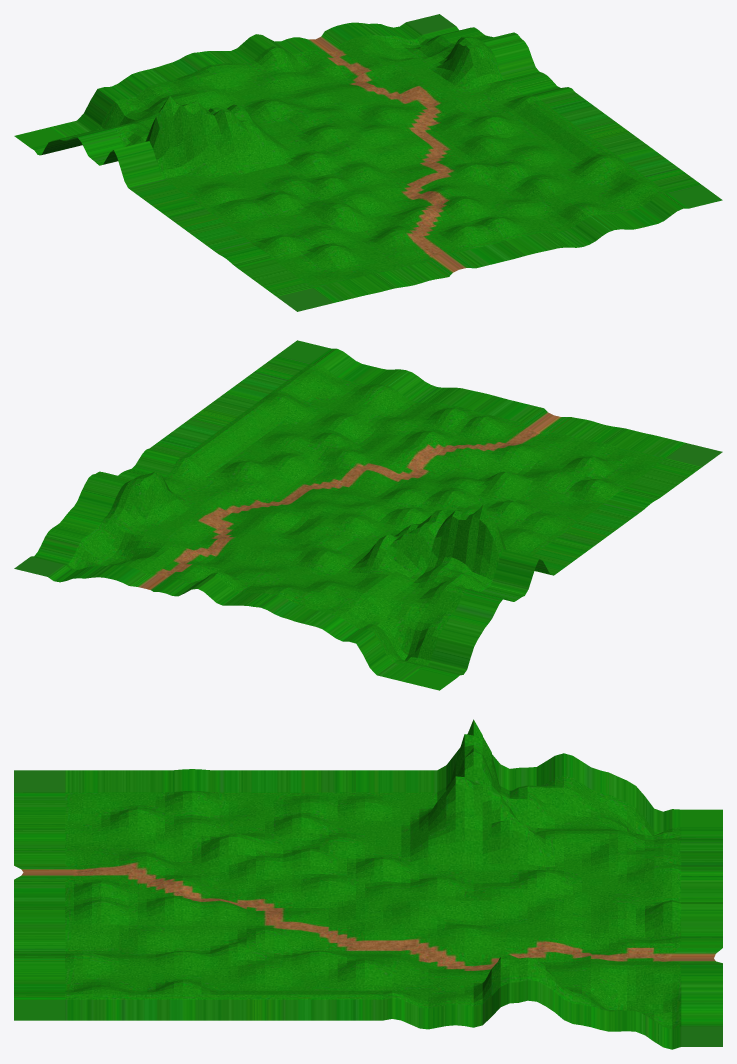
File: CampainMap.glb
The picture shows the model from 3 angles, top to bottom: view 1: azimuth 30°, elevation 25°; view 2: azimuth 150°, elevation 25°; view 3: azimuth 270°, elevation 25°; orthographic projection. The views are drawn at different scales.
Parts seen in each view (by area): view 1: Plane-col; view 2: Plane-col; view 3: Plane-col.
Boxes of the visible parts, x1=… form: Plane-col: x1=14, y1=14, x2=722, y2=311; Plane-col: x1=14, y1=340, x2=722, y2=690; Plane-col: x1=14, y1=719, x2=722, y2=1049.
Bounding box in the file's own units: 16.51 × 3.92 × 19.03.
Materials: 1 (1 with a texture image).
